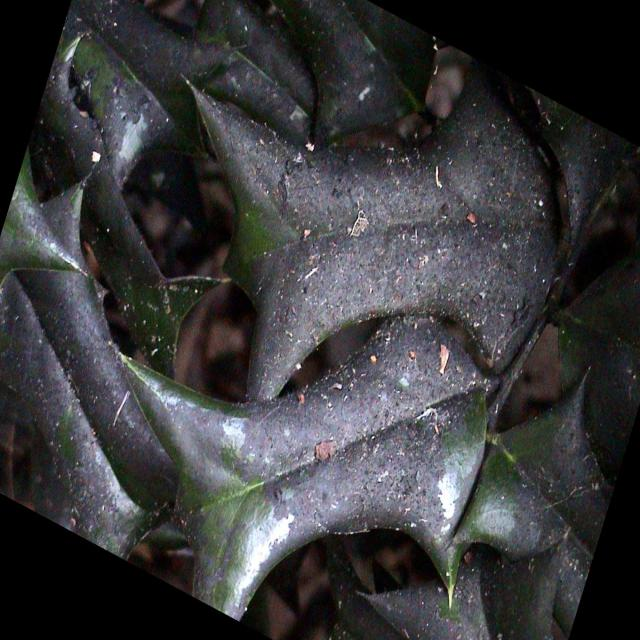Sooty Mold: (2, 2, 635, 634)
